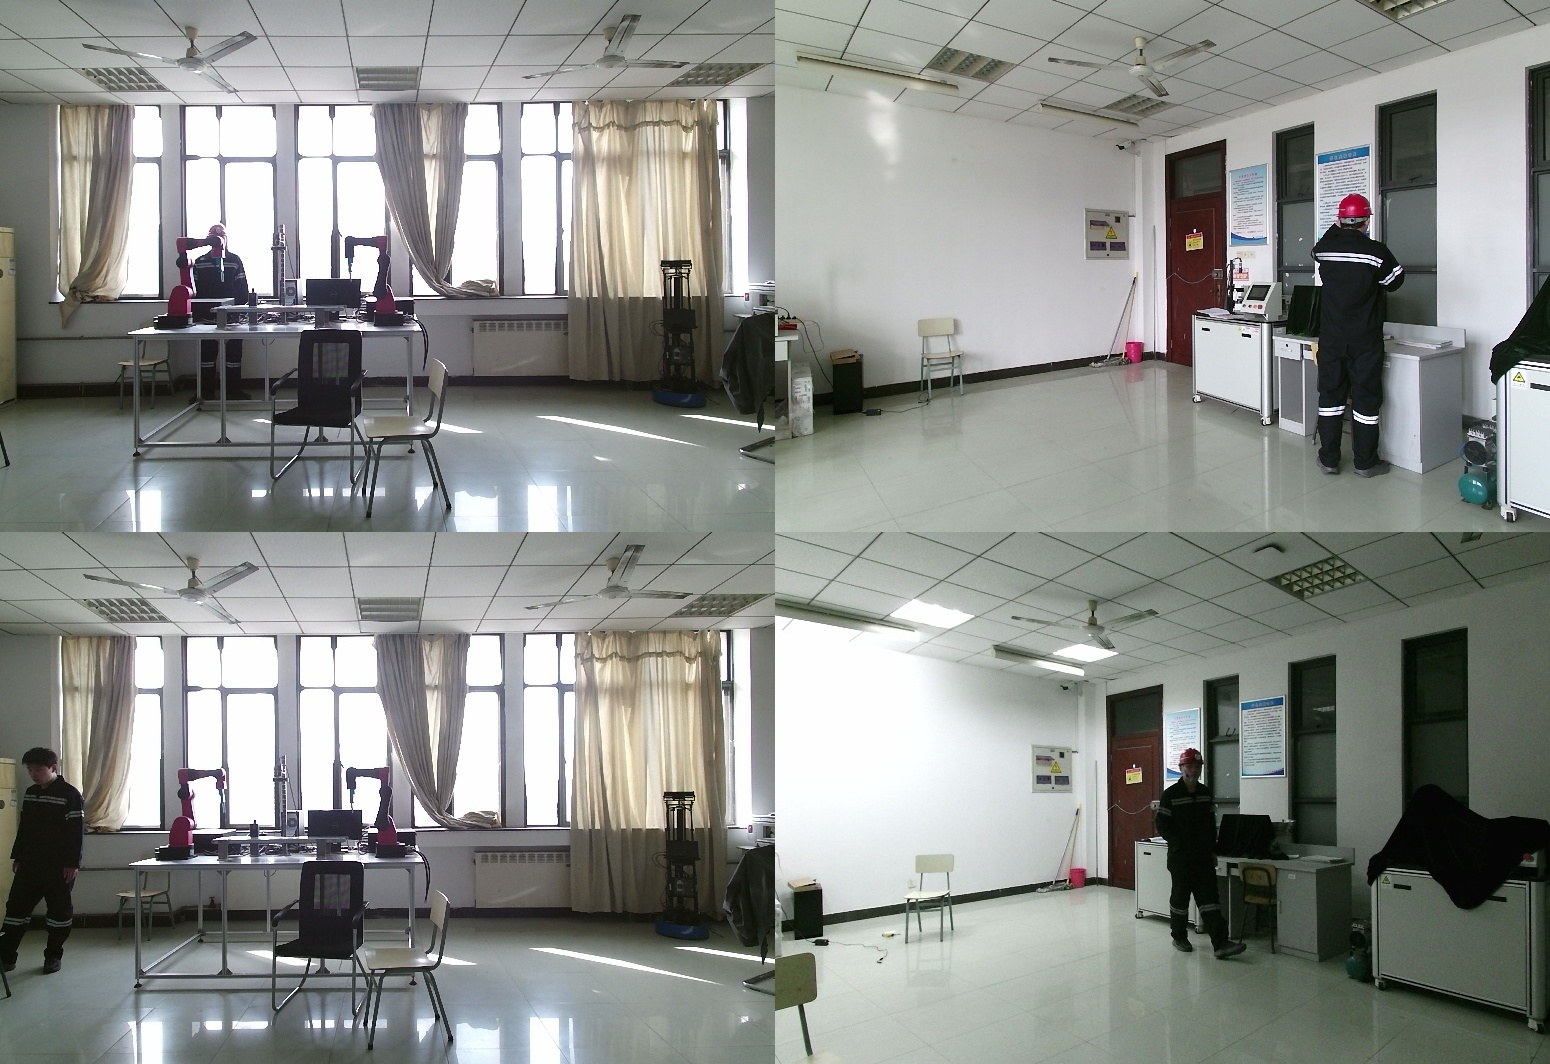person: (1307, 193, 1426, 474), (1150, 750, 1249, 958), (1, 747, 91, 973), (193, 224, 249, 404)
